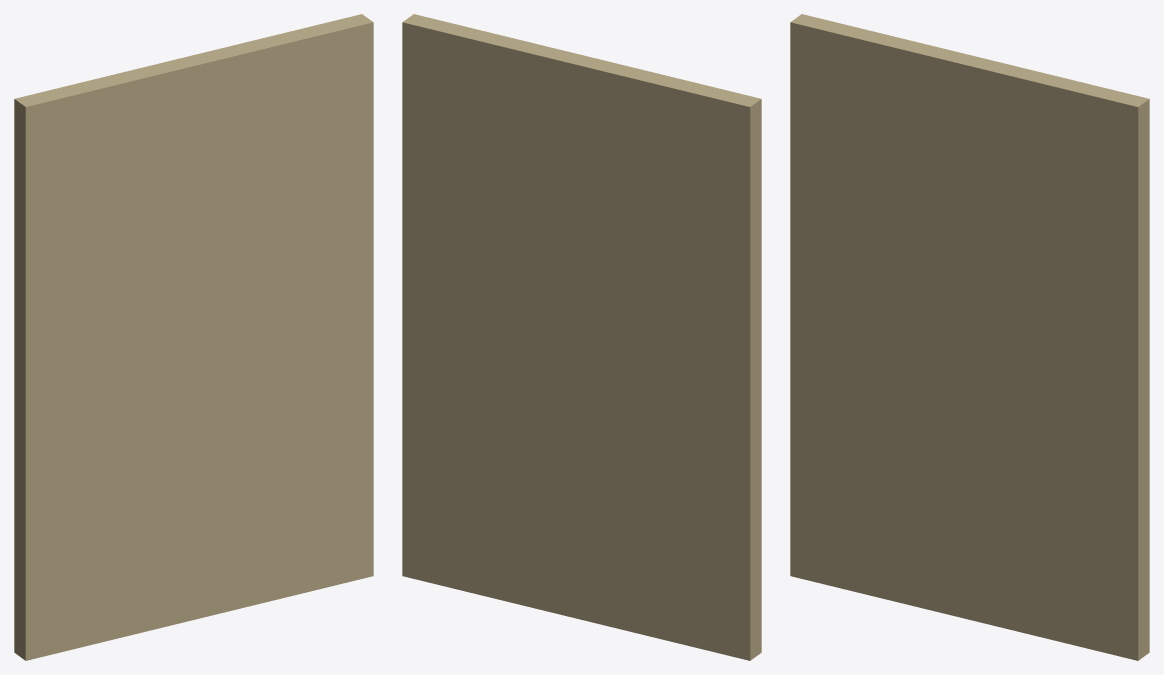
The picture shows the model from 3 angles, left to right: view 1: azimuth 30°, elevation 25°; view 2: azimuth 150°, elevation 25°; view 3: azimuth 330°, elevation 25°; orthographic projection.
Visible parts, largest first — view 1: GF-W074; view 2: GF-W074; view 3: GF-W074.
Part boxes in pixels (x1=…): GF-W074: x1=14, y1=14, x2=373, y2=660; GF-W074: x1=402, y1=14, x2=761, y2=660; GF-W074: x1=790, y1=14, x2=1149, y2=660.
Size of the model in its own units: 1.59 by 2.42 by 0.09.
